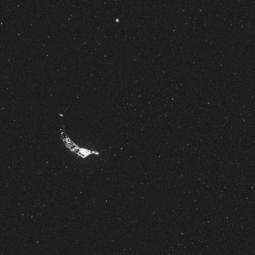lisa_pathfinder: (44, 90, 149, 171)
